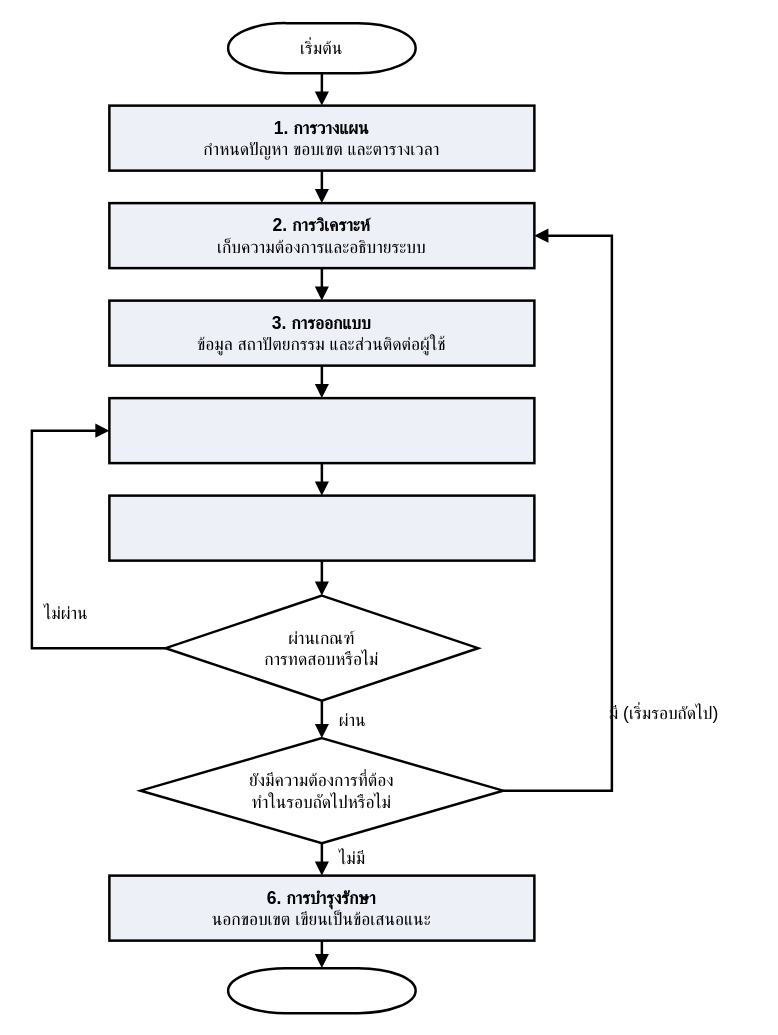
This 778x1035 diagram has some shape labels left out. Each missing label, with the centre of its shape:
4. การพัฒนา เขียนโปรแกรมเป็นรอบ รอบละสองสัปดาห์: point (321, 430)
5. การทดสอบ ทดสอบหน่วย ระบบ และการยอมรับ: point (321, 527)
สิ้นสุด: point (321, 990)
